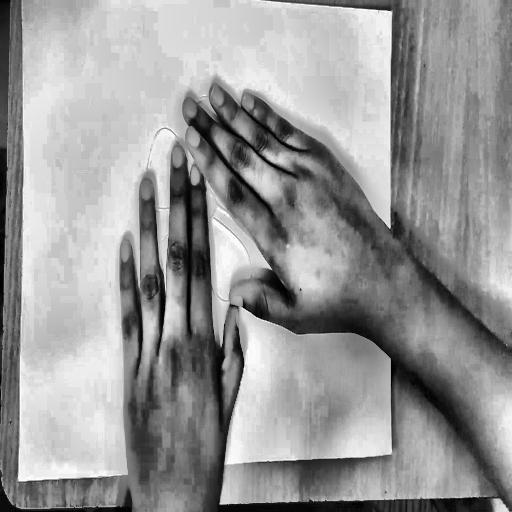bottom_left: (13, 469, 24, 485)
bottom_right: (387, 443, 397, 460)
flower: (136, 85, 281, 446), (387, 5, 396, 19)
